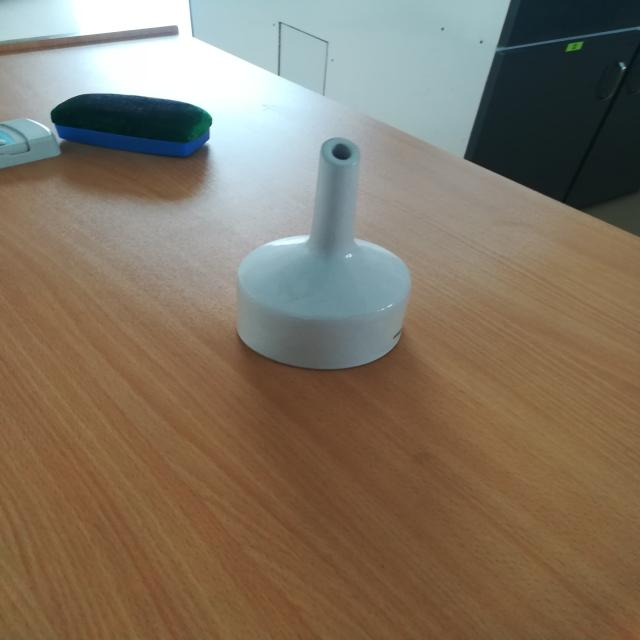Buchner_Funnel: (185, 107, 449, 400)
